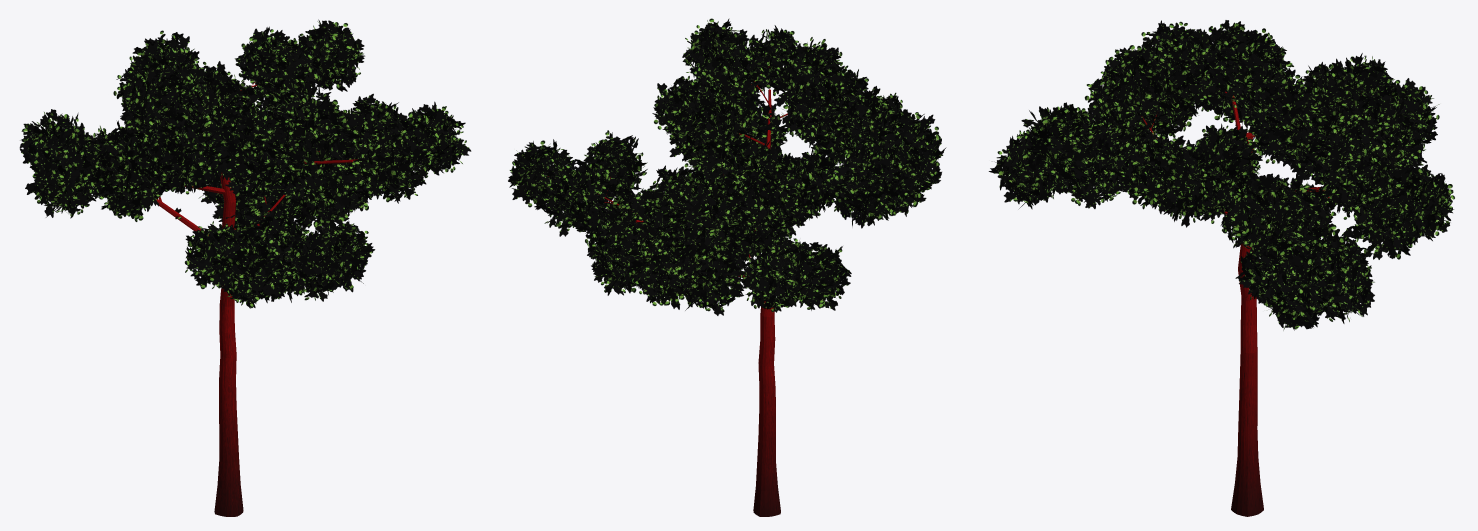
Rendered from pine_open_v01.glb.
3 views of the same model, side by side, from view 1: azimuth 30°, elevation 25°; view 2: azimuth 150°, elevation 25°; view 3: azimuth 270°, elevation 25° (orthographic). The views are drawn at different scales.
Visible parts, largest first — view 1: pine_open_v01; view 2: pine_open_v01; view 3: pine_open_v01.
Boxes of the visible parts, <box> form: pine_open_v01: <box>19,19,471,516</box>; pine_open_v01: <box>508,18,946,516</box>; pine_open_v01: <box>988,20,1454,516</box>.
Size of the model in its own units: 13.15 by 16.37 by 15.13.
Materials: 2 (2 with a texture image).
